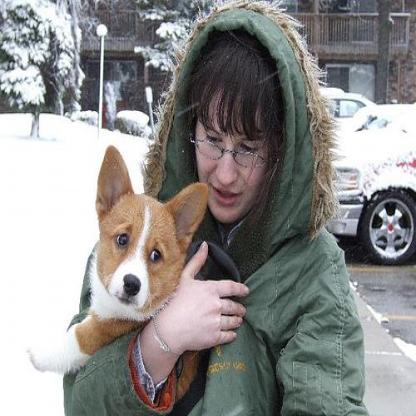Pembroke: (29, 145, 209, 377)
